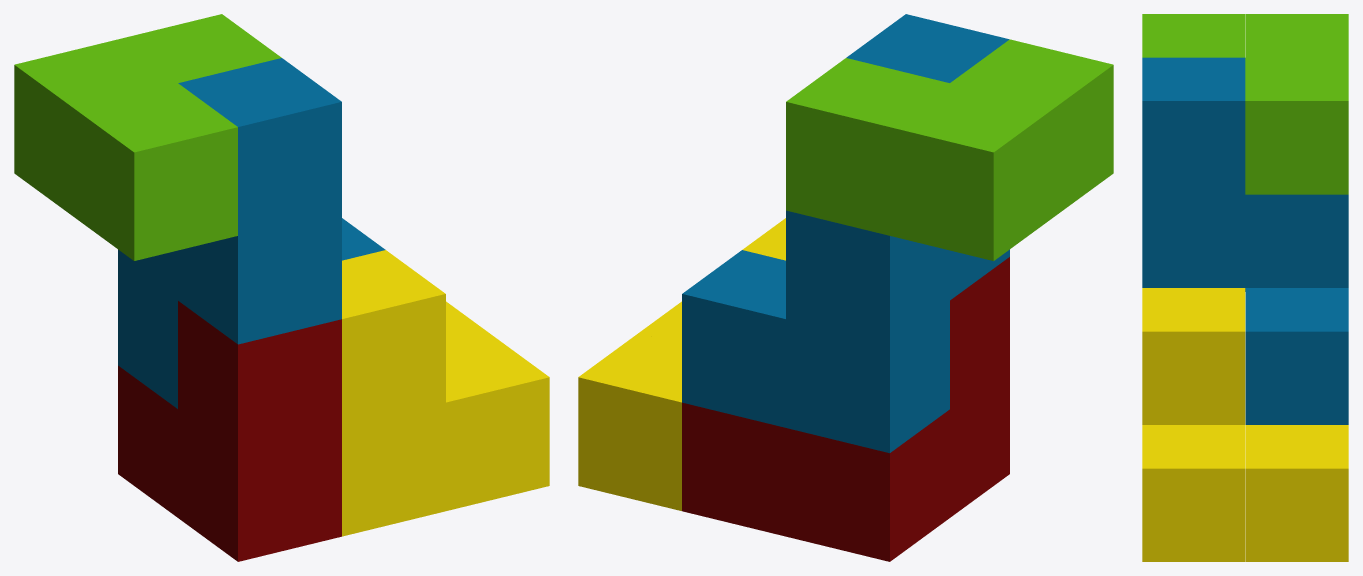
3 renders of one model, left to right at view 1: azimuth 30°, elevation 25°; view 2: azimuth 150°, elevation 25°; view 3: azimuth 270°, elevation 25°, orthographic. The views are drawn at different scales.
Visible parts, largest first — view 1: mergedBlocks(Clone); view 2: mergedBlocks(Clone); view 3: mergedBlocks(Clone).
Part boxes in pixels (x1,y1,x2,y2): mergedBlocks(Clone): (14,14,549,561); mergedBlocks(Clone): (578,14,1113,561); mergedBlocks(Clone): (1142,14,1348,561).
Bounding box in the file's own units: 4 × 4 × 2.
4 materials, 4 textured.
